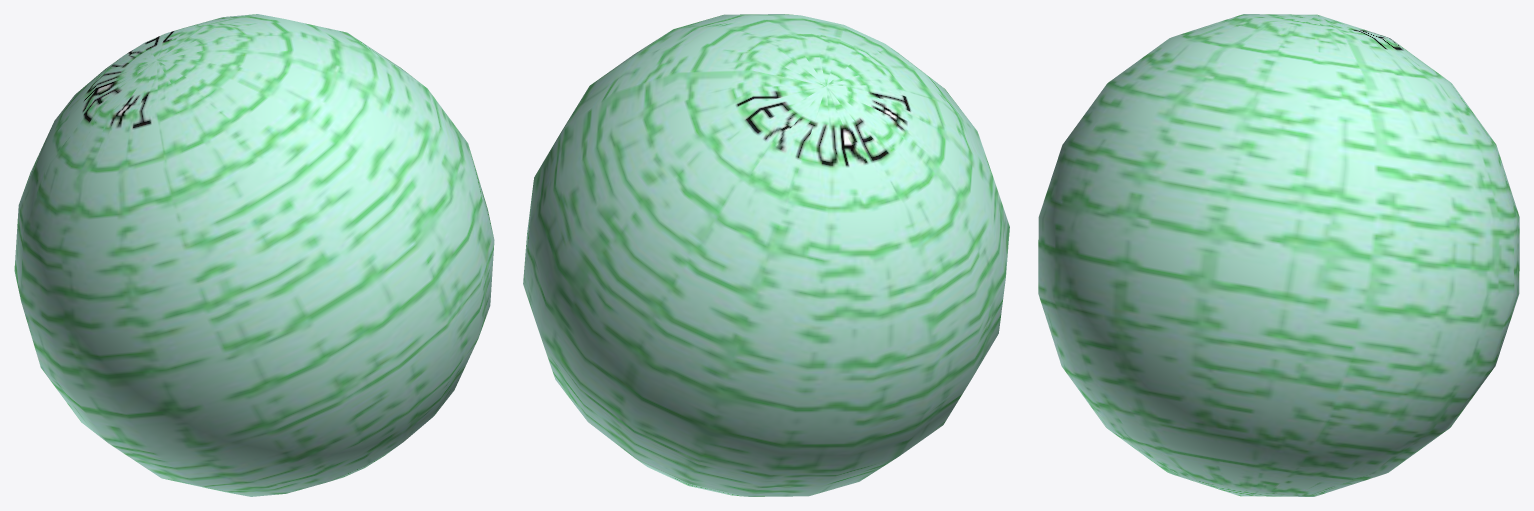
Rendered from simple_000_N_RGB_Texture_02.dae.
3 views of the same model, side by side, from view 1: azimuth 30°, elevation 25°; view 2: azimuth 150°, elevation 25°; view 3: azimuth 270°, elevation 25° (orthographic).
Visible parts, largest first — view 1: pSphere1; view 2: pSphere1; view 3: pSphere1.
Boxes of the visible parts, x1,y1,x2,y2 form: pSphere1: (14, 14, 494, 496); pSphere1: (523, 14, 1009, 496); pSphere1: (1038, 14, 1519, 496).
Size of the model in its own units: 19.95 by 19.72 by 19.87.
